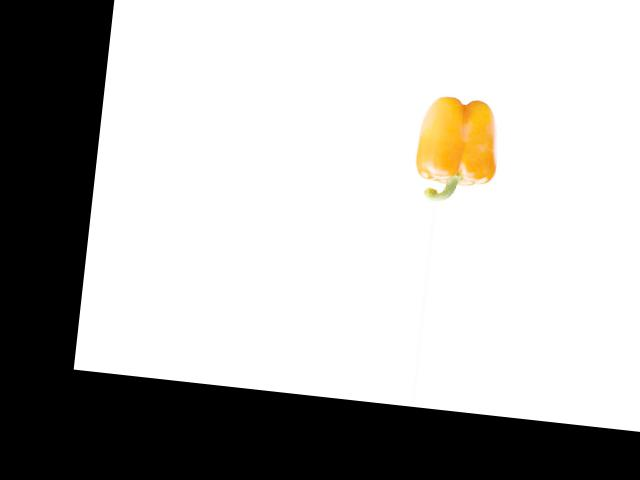bell_pepper: (402, 92, 511, 208)
